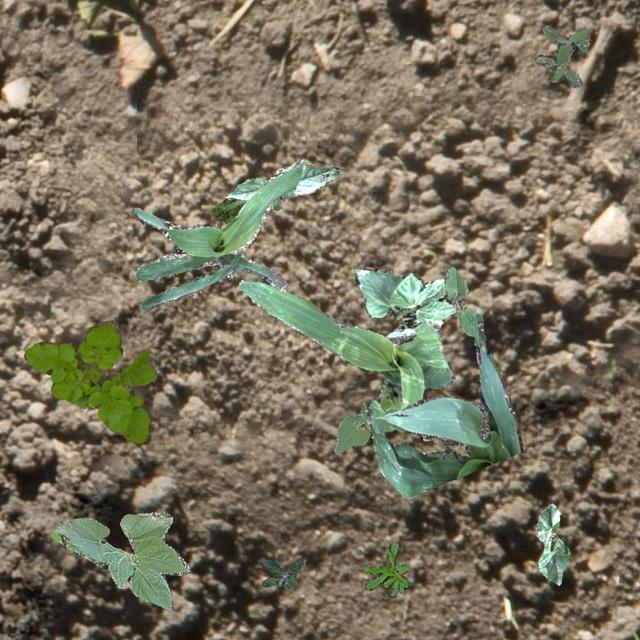crop: (237, 278, 453, 431), (366, 312, 522, 498), (130, 158, 306, 308), (50, 512, 188, 610), (352, 266, 456, 338), (225, 163, 338, 200), (332, 402, 397, 454), (536, 502, 568, 584), (442, 266, 476, 336)
weed: (23, 318, 156, 442), (534, 24, 590, 86), (364, 542, 409, 596), (210, 198, 280, 222), (261, 558, 305, 590)
